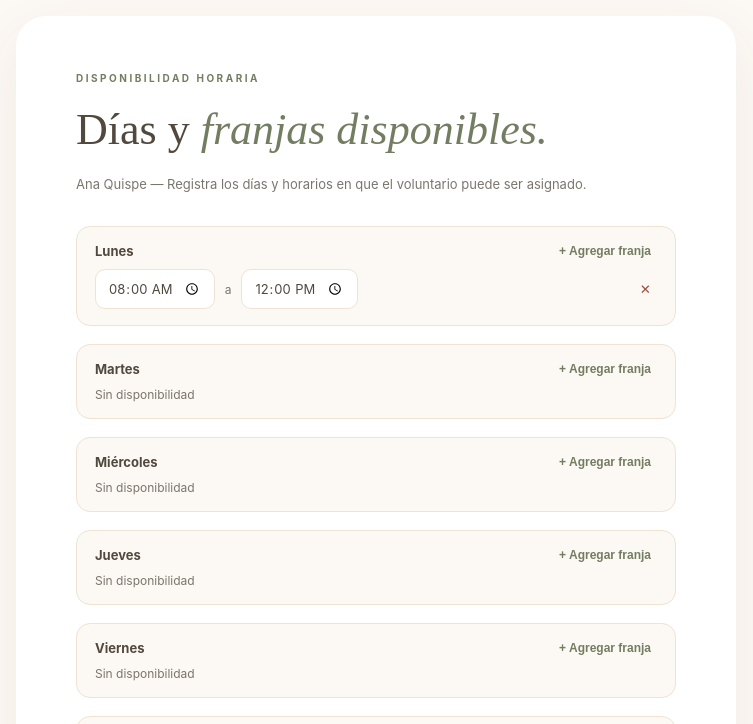
Test: DisponibilidadView › quita una franja
Click the button with class "disp-quitar" at (645, 289), box [634,281,657,298]
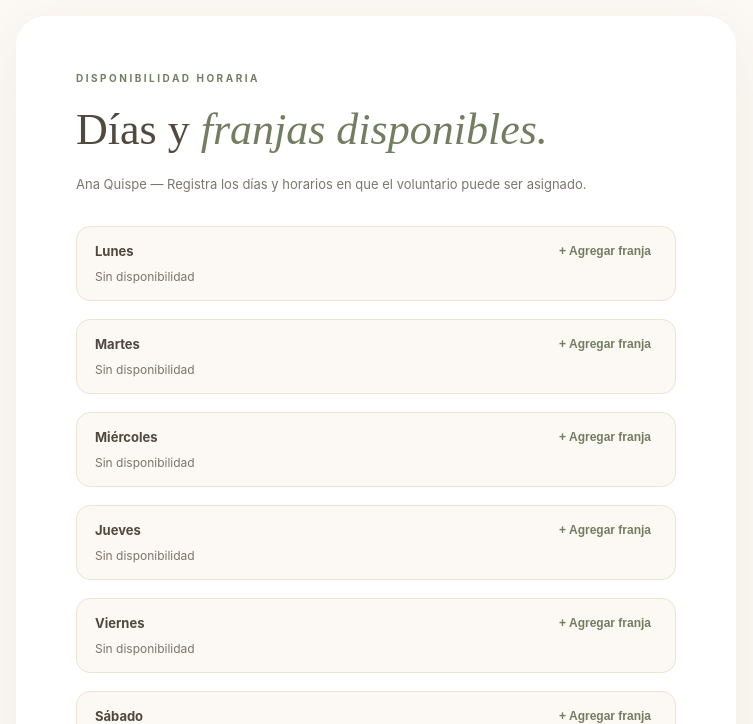
expect the text "Sin disponibilidad" is shown: met, box [95,269,195,284]
expect no time fields are shown: met
